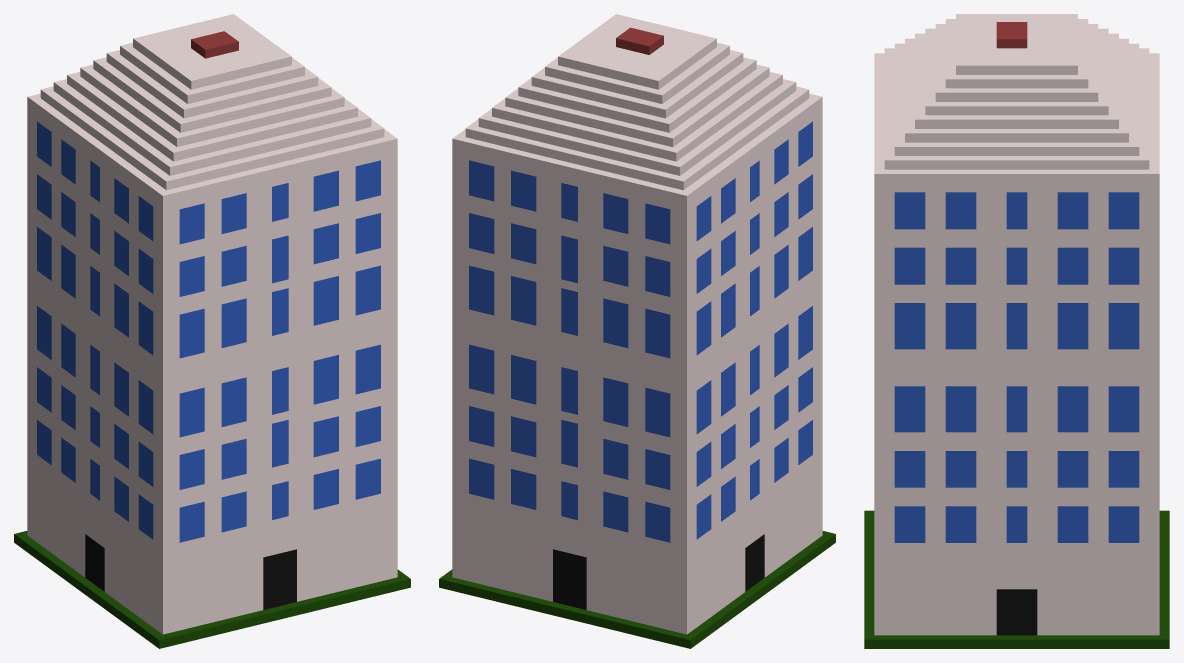
The model's file is skyscraper1.obj.
The picture shows the model from 3 angles, left to right: view 1: azimuth 30°, elevation 25°; view 2: azimuth 150°, elevation 25°; view 3: azimuth 270°, elevation 25°; orthographic projection. The views are drawn at different scales.
Bounding box in the file's own units: 30 × 60 × 30.
